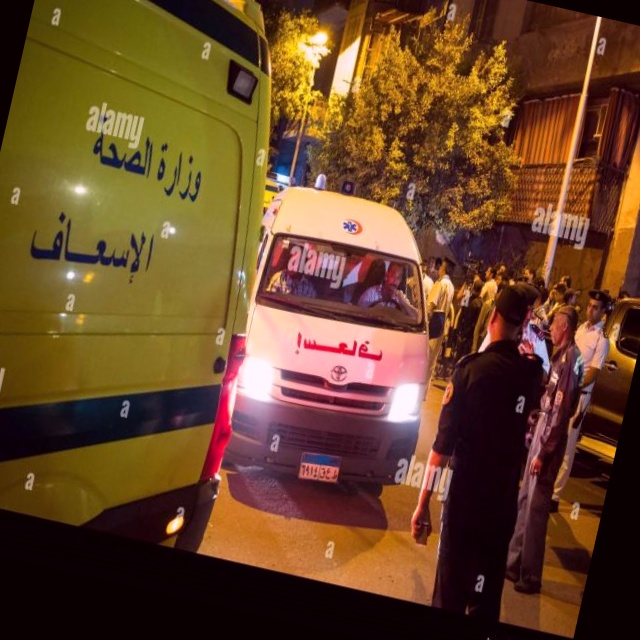Ambulance: (0, 0, 340, 557), (206, 161, 472, 507)
person: (393, 272, 573, 623), (489, 301, 603, 596), (534, 286, 622, 518), (405, 254, 463, 403), (356, 255, 429, 321), (266, 239, 328, 302)
